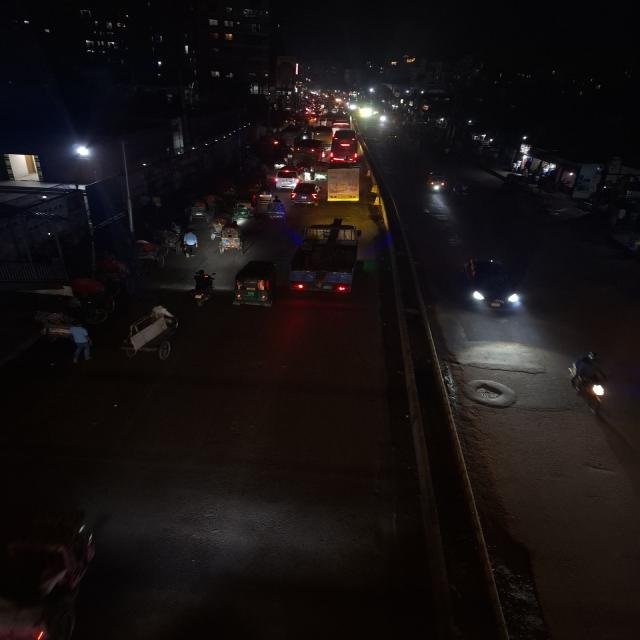bus: (327, 128, 361, 165)
car: (457, 256, 528, 318), (290, 180, 323, 207), (272, 163, 304, 189)
cng: (233, 258, 278, 313), (186, 195, 213, 225), (228, 197, 257, 224), (424, 169, 449, 196)
motorcycle: (564, 348, 614, 416), (187, 268, 218, 308), (252, 182, 275, 204)
pedestrian: (65, 323, 95, 365), (180, 229, 201, 259)
pickup_van: (286, 221, 365, 301)
rickshaw: (115, 306, 184, 366), (54, 275, 124, 325), (128, 234, 172, 272), (215, 223, 246, 256), (264, 196, 289, 223)
truck: (326, 162, 364, 206)
